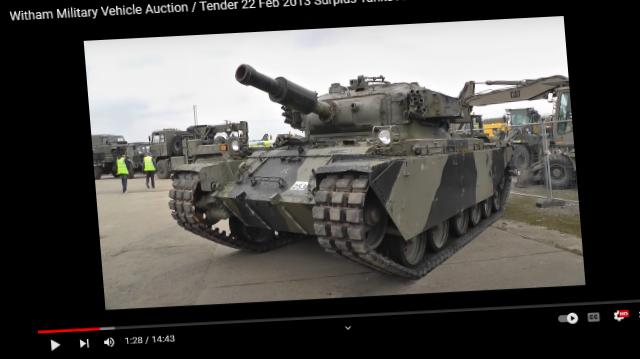other: (110, 150, 129, 198), (137, 150, 154, 192)
tank: (200, 120, 498, 269)
